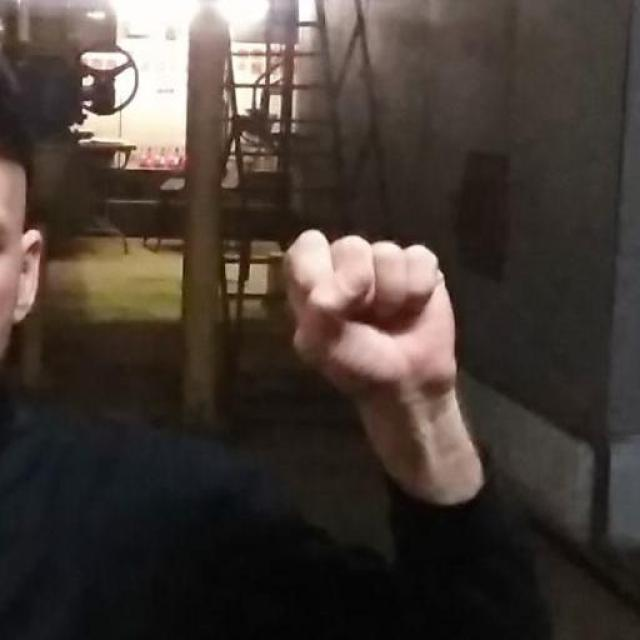hand: (281, 226, 485, 506)
